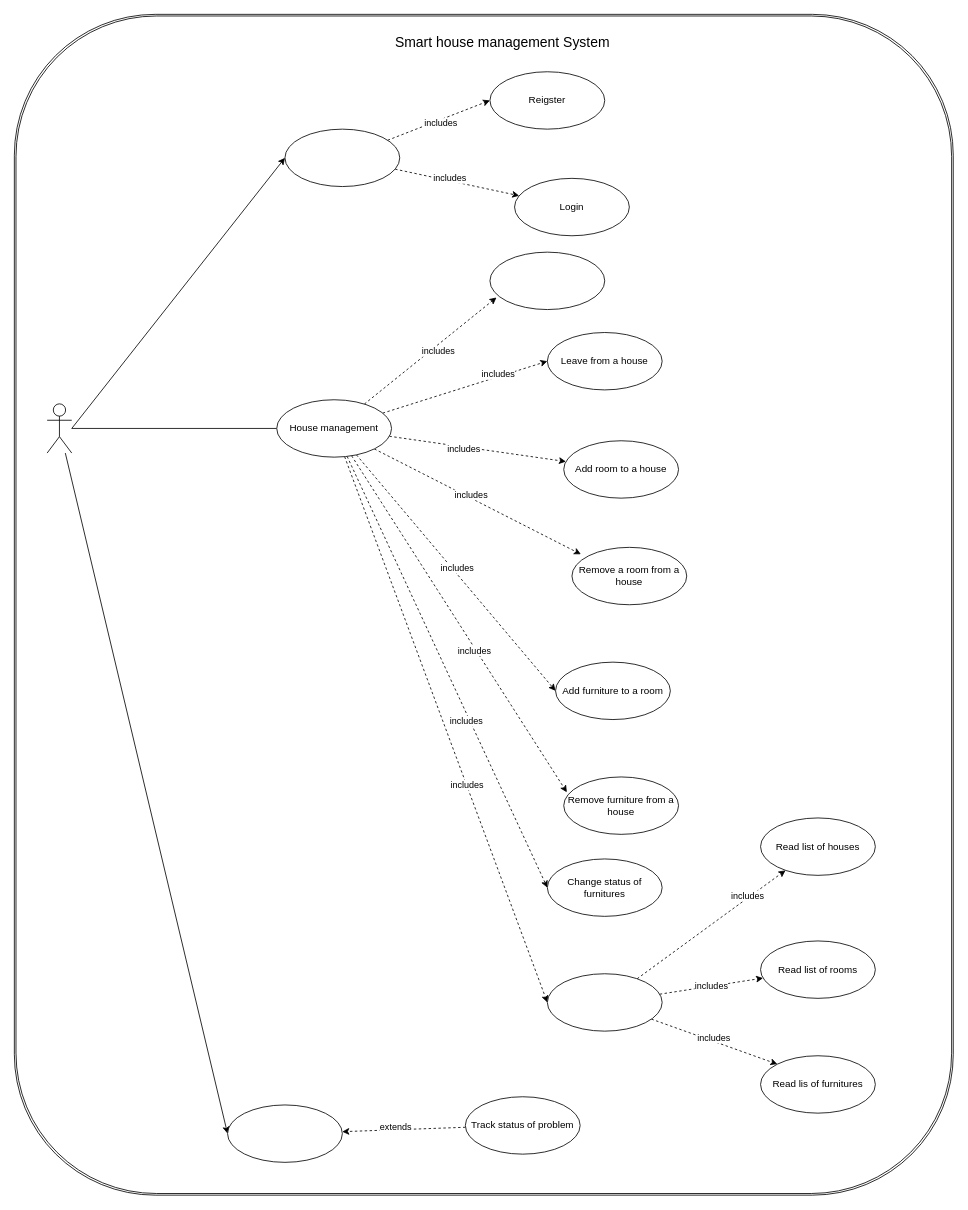
The diagram is 968 pixels wide and 1210 high, and some of its shapes have lost their labels. The centre of each missing label's shape, as x and y in pixels:
"Account management" belongs at point 342,157.
"Create house" belongs at point 547,280.
"Read information of houses" belongs at point 604,1002.
"Report problem" belongs at point 284,1133.
"User" belongs at point 59,428.
